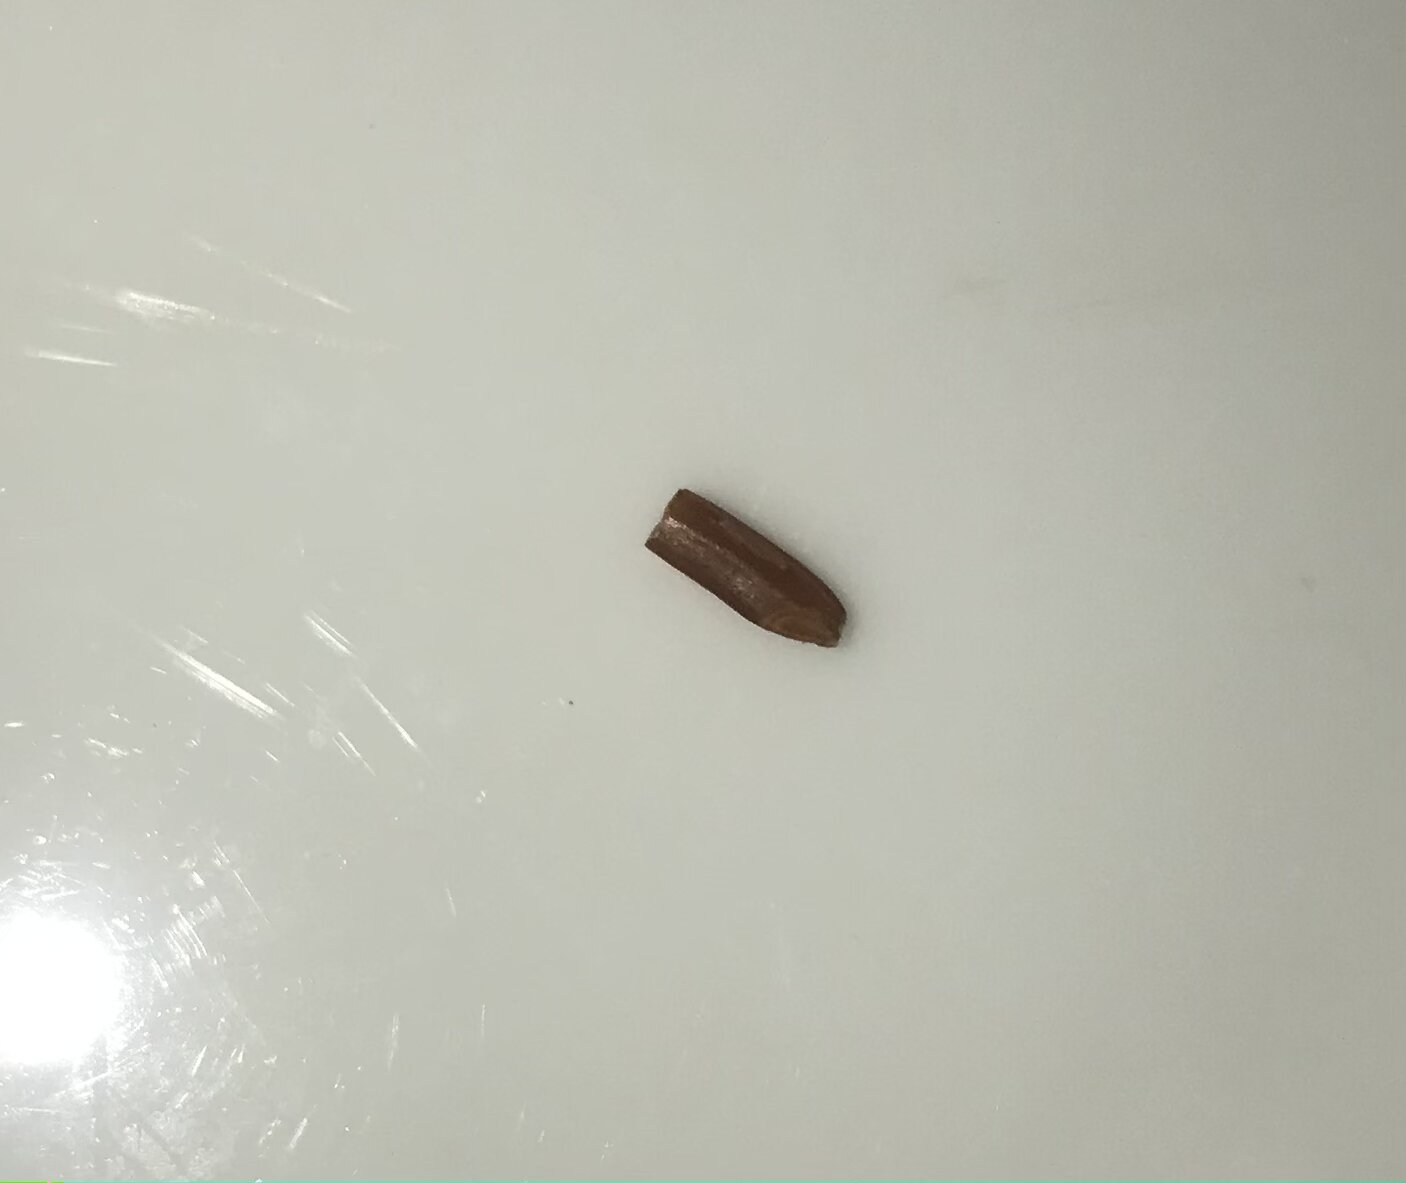Gao Huyet Rong: (628, 464, 857, 669)
